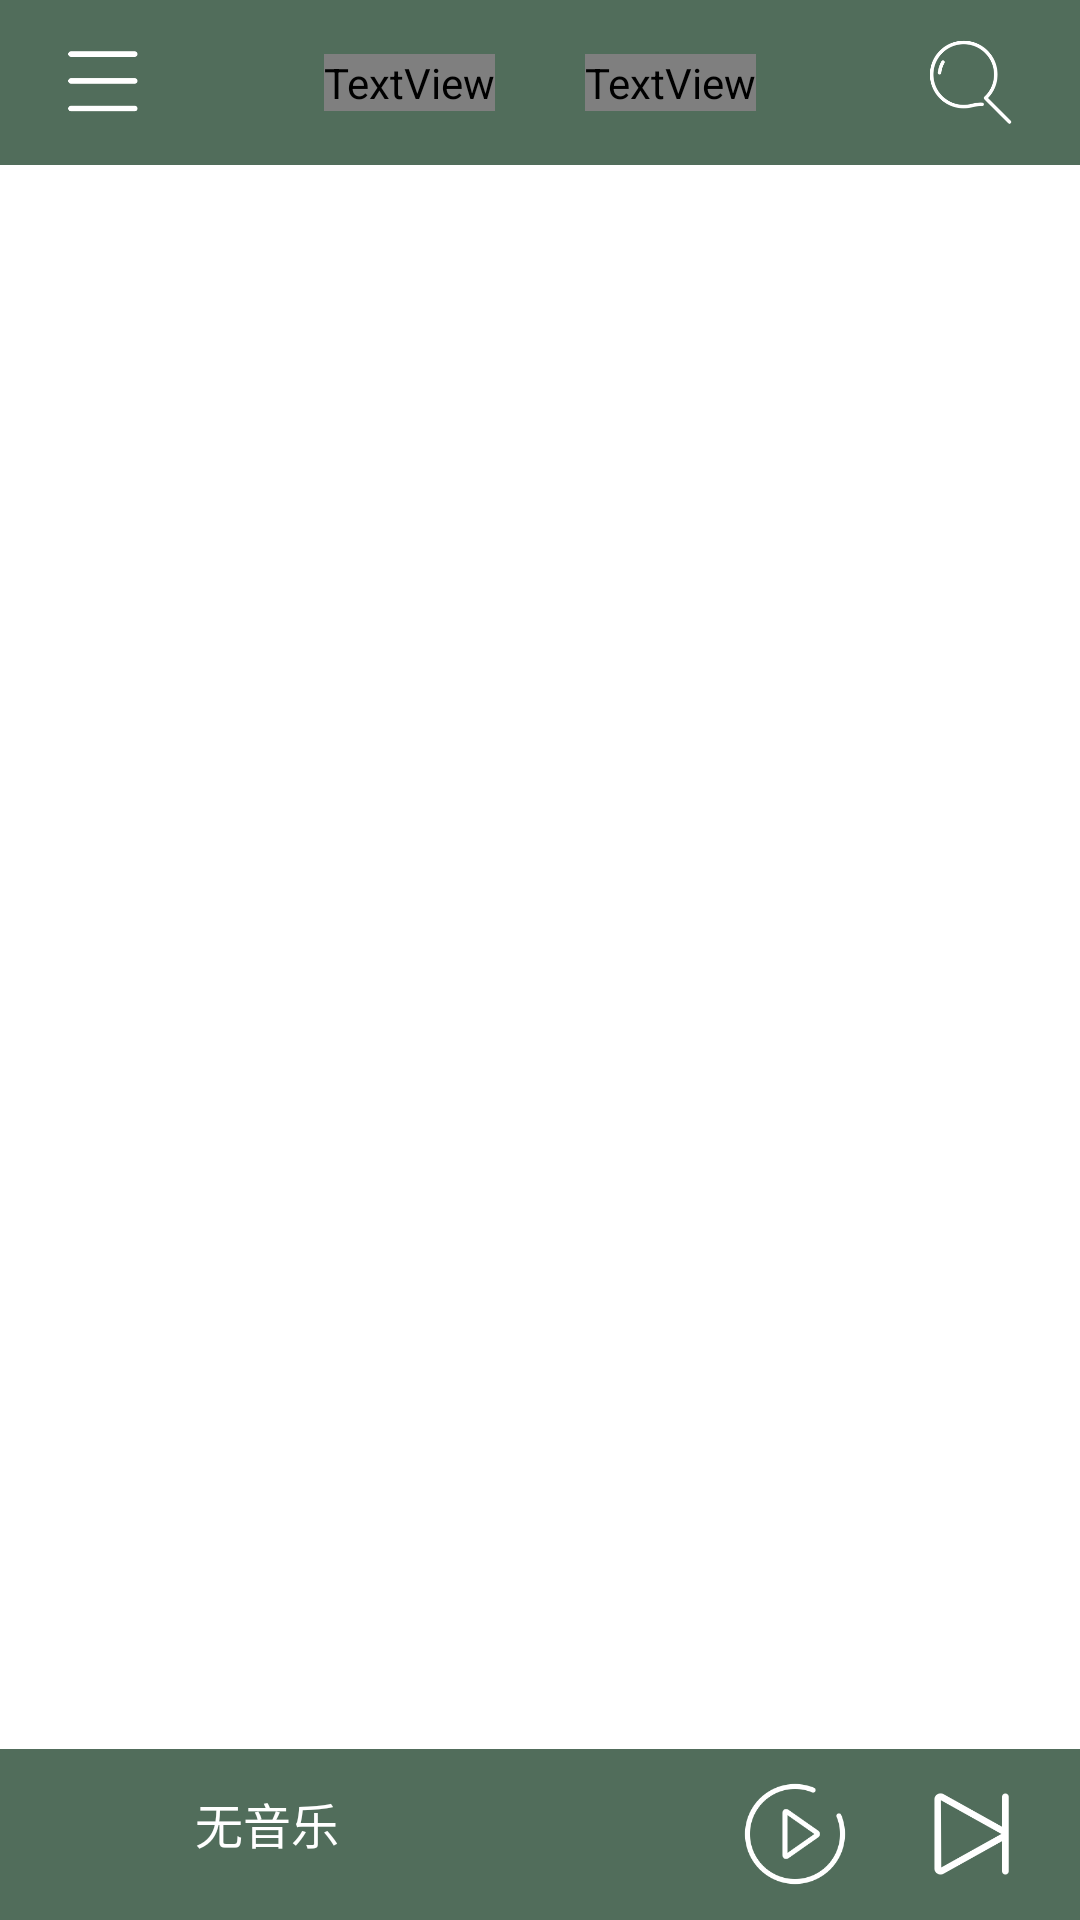

Locate icon controls on the screen. Image size 1080 x 1920, boxes as Rect(x1, y1, x2, y2).
bofang: Rect(745, 1784, 845, 1884)
sousuo: Rect(930, 41, 1011, 124)
xiayigexiayishou: Rect(934, 1793, 1009, 1875)
